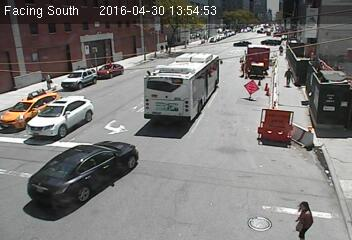neg: (60, 52, 94, 98), (158, 79, 190, 122), (68, 178, 94, 214), (202, 49, 227, 82), (2, 99, 25, 129), (34, 68, 54, 95), (49, 142, 69, 168), (78, 146, 97, 171), (135, 61, 153, 85), (108, 150, 125, 172), (22, 163, 38, 185), (30, 117, 43, 134), (195, 65, 208, 82), (51, 190, 63, 205)
pos: (290, 200, 318, 239), (280, 65, 297, 88), (276, 42, 288, 57), (157, 41, 167, 55), (164, 44, 171, 54)
